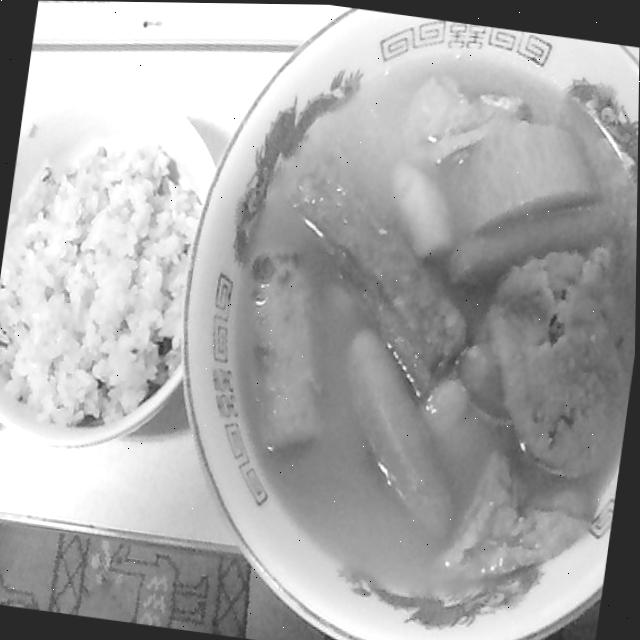汤锅炖物: (209, 50, 639, 593)
